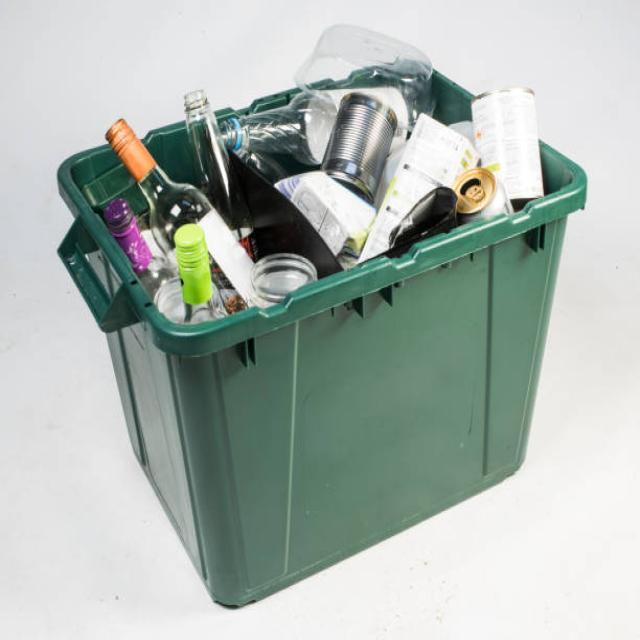glass: (110, 120, 253, 284)
metal: (322, 86, 396, 196)
